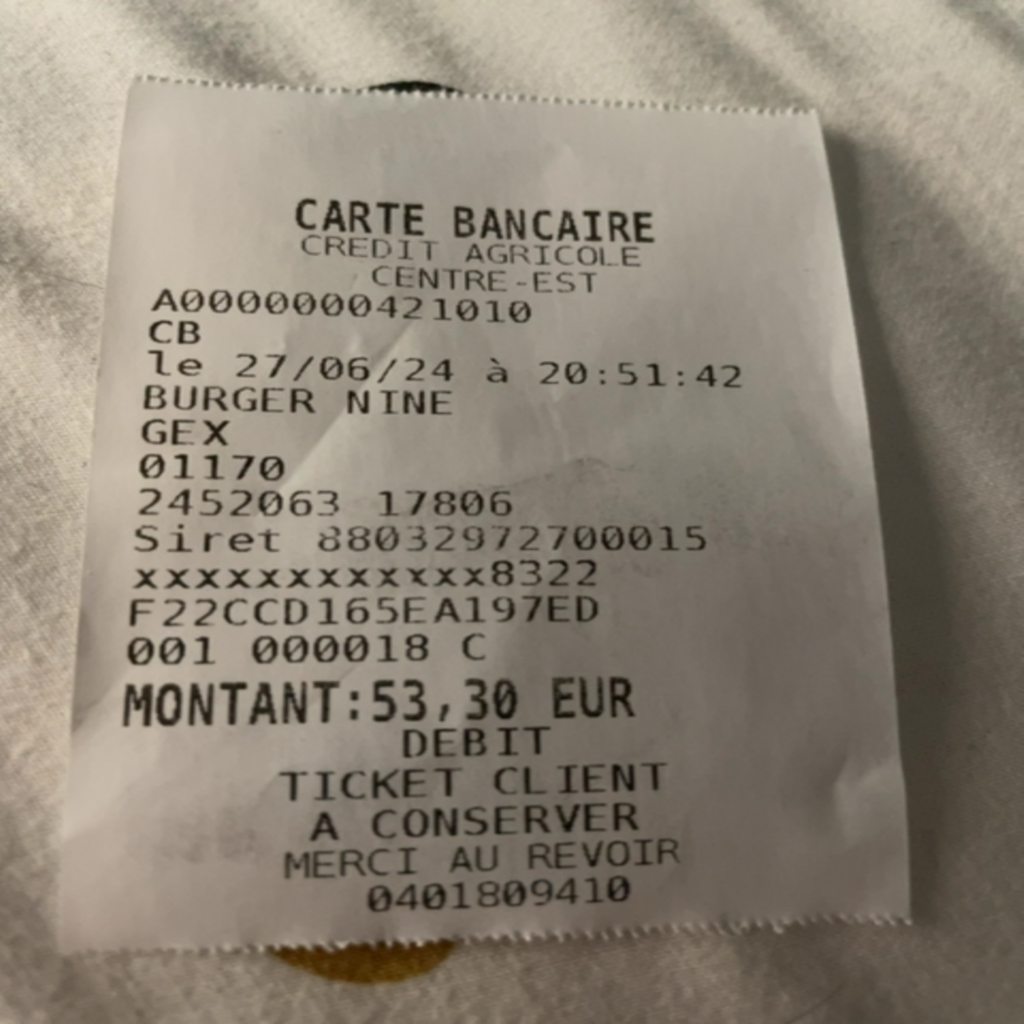recipt: (53, 69, 906, 953)
